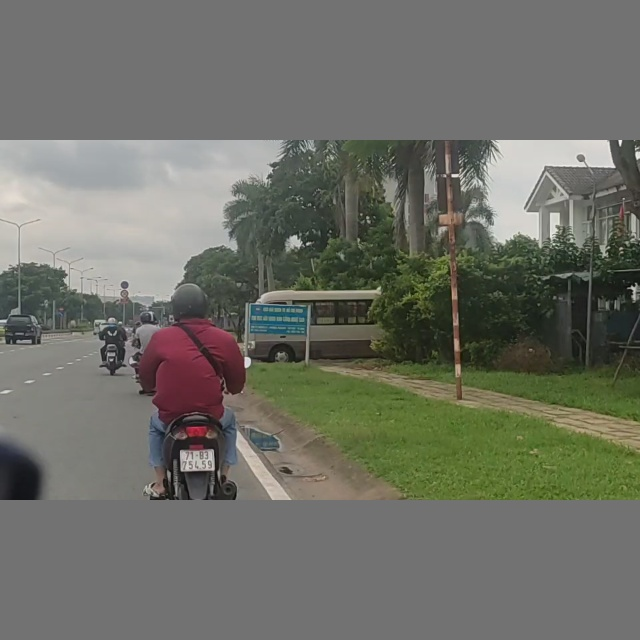P.102: (58, 306, 65, 312)
P.130: (121, 281, 129, 289)
R.302a: (57, 312, 65, 317)
